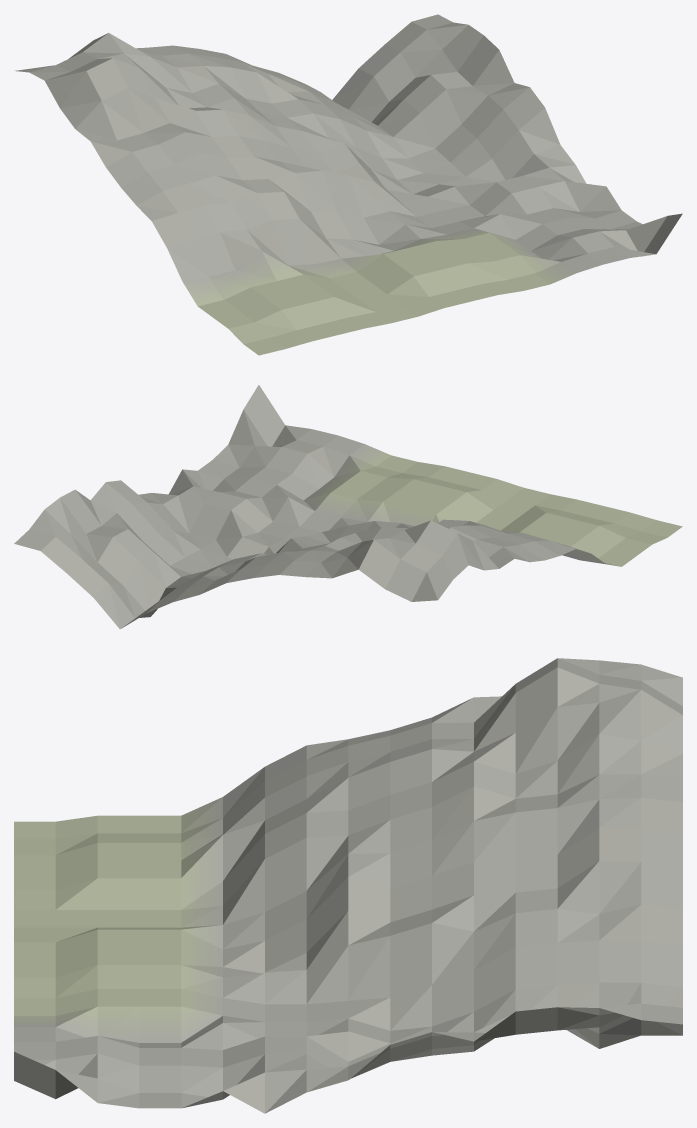
The picture shows the model from 3 angles, top to bottom: view 1: azimuth 30°, elevation 25°; view 2: azimuth 150°, elevation 25°; view 3: azimuth 270°, elevation 25°; orthographic projection. The views are drawn at different scales.
Bounding box in the file's own units: 32 × 10.83 × 32.
